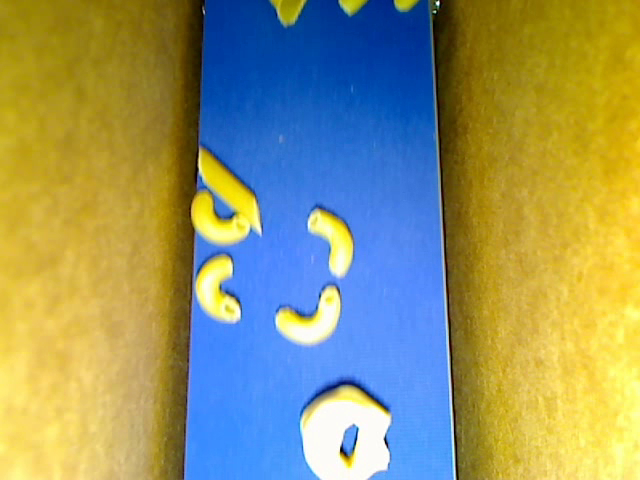elbow: (274, 284, 343, 346), (190, 188, 250, 247), (305, 206, 354, 278), (194, 253, 241, 323)
penne: (198, 145, 262, 236)
shell: (269, 1, 309, 29)
tortellini: (298, 382, 389, 479)
